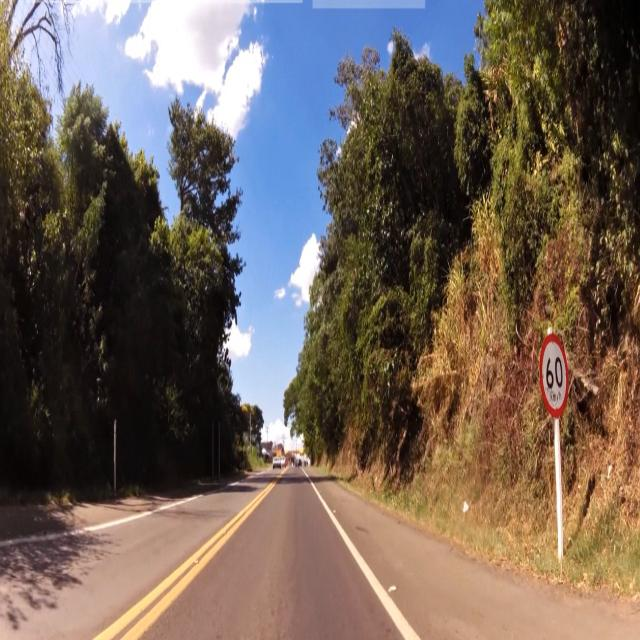R-19: (538, 331, 573, 412)
